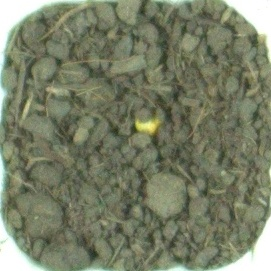chilli seed: (131, 107, 164, 137)
